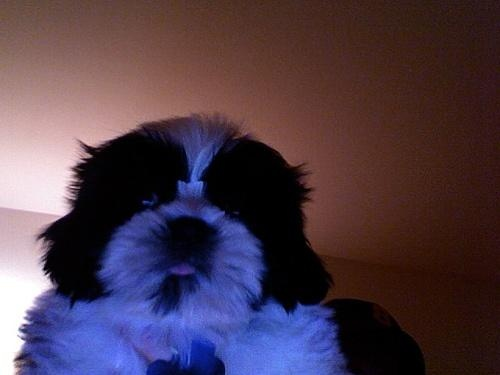dog: (12, 114, 351, 375)
